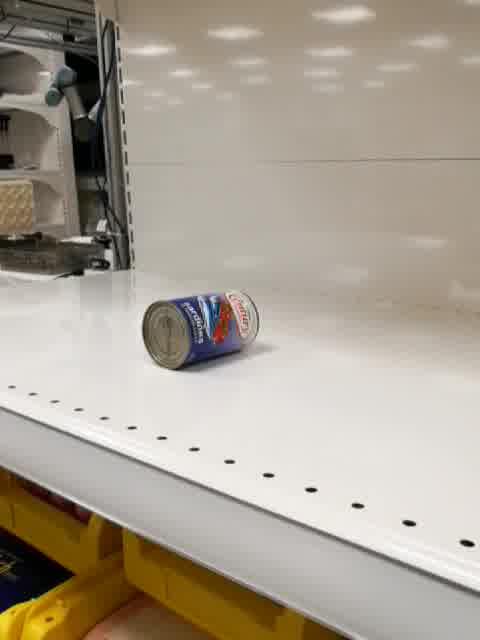sardine: (141, 291, 261, 370)
